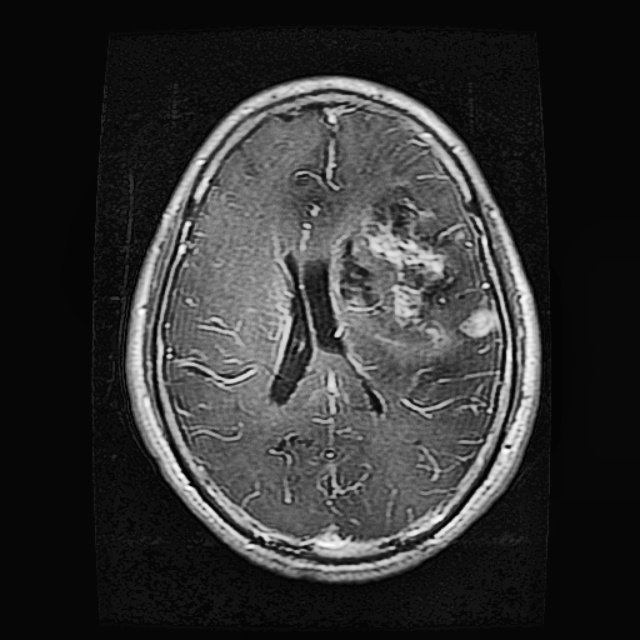Pituitary: (334, 189, 495, 353)
